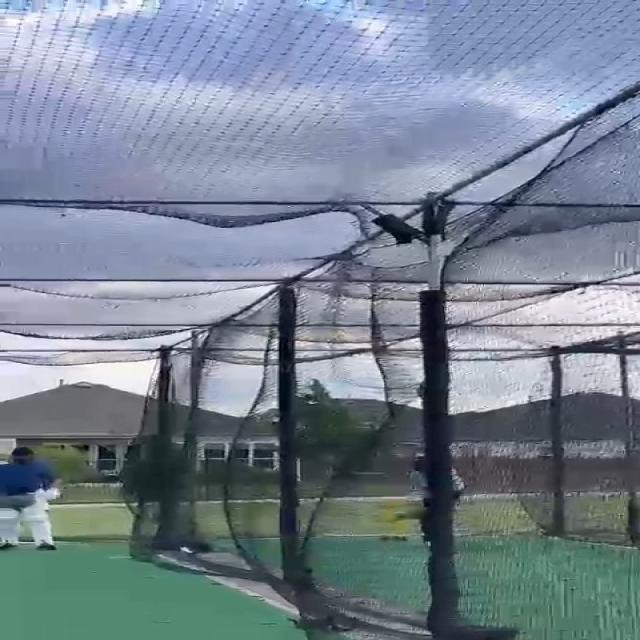batsman: (1, 445, 68, 553)
